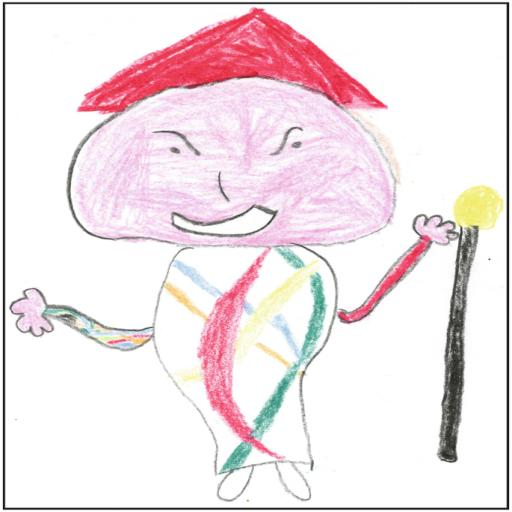person: (12, 9, 456, 500)
